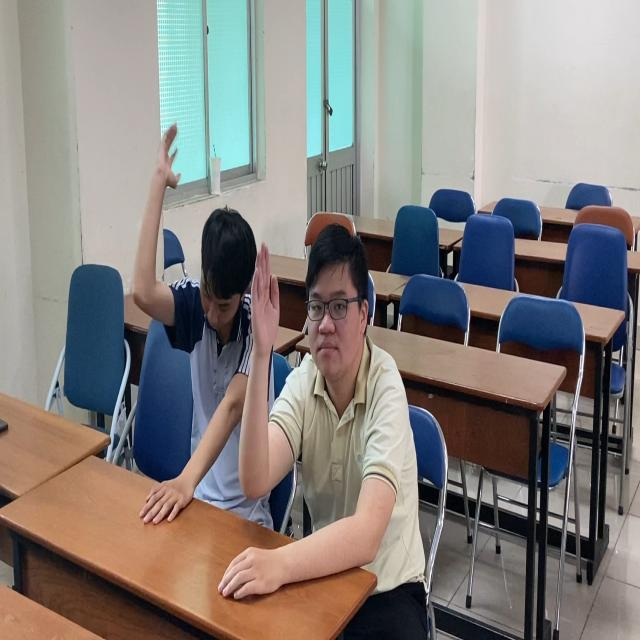raise_hand: (234, 225, 433, 586), (130, 111, 273, 531)
